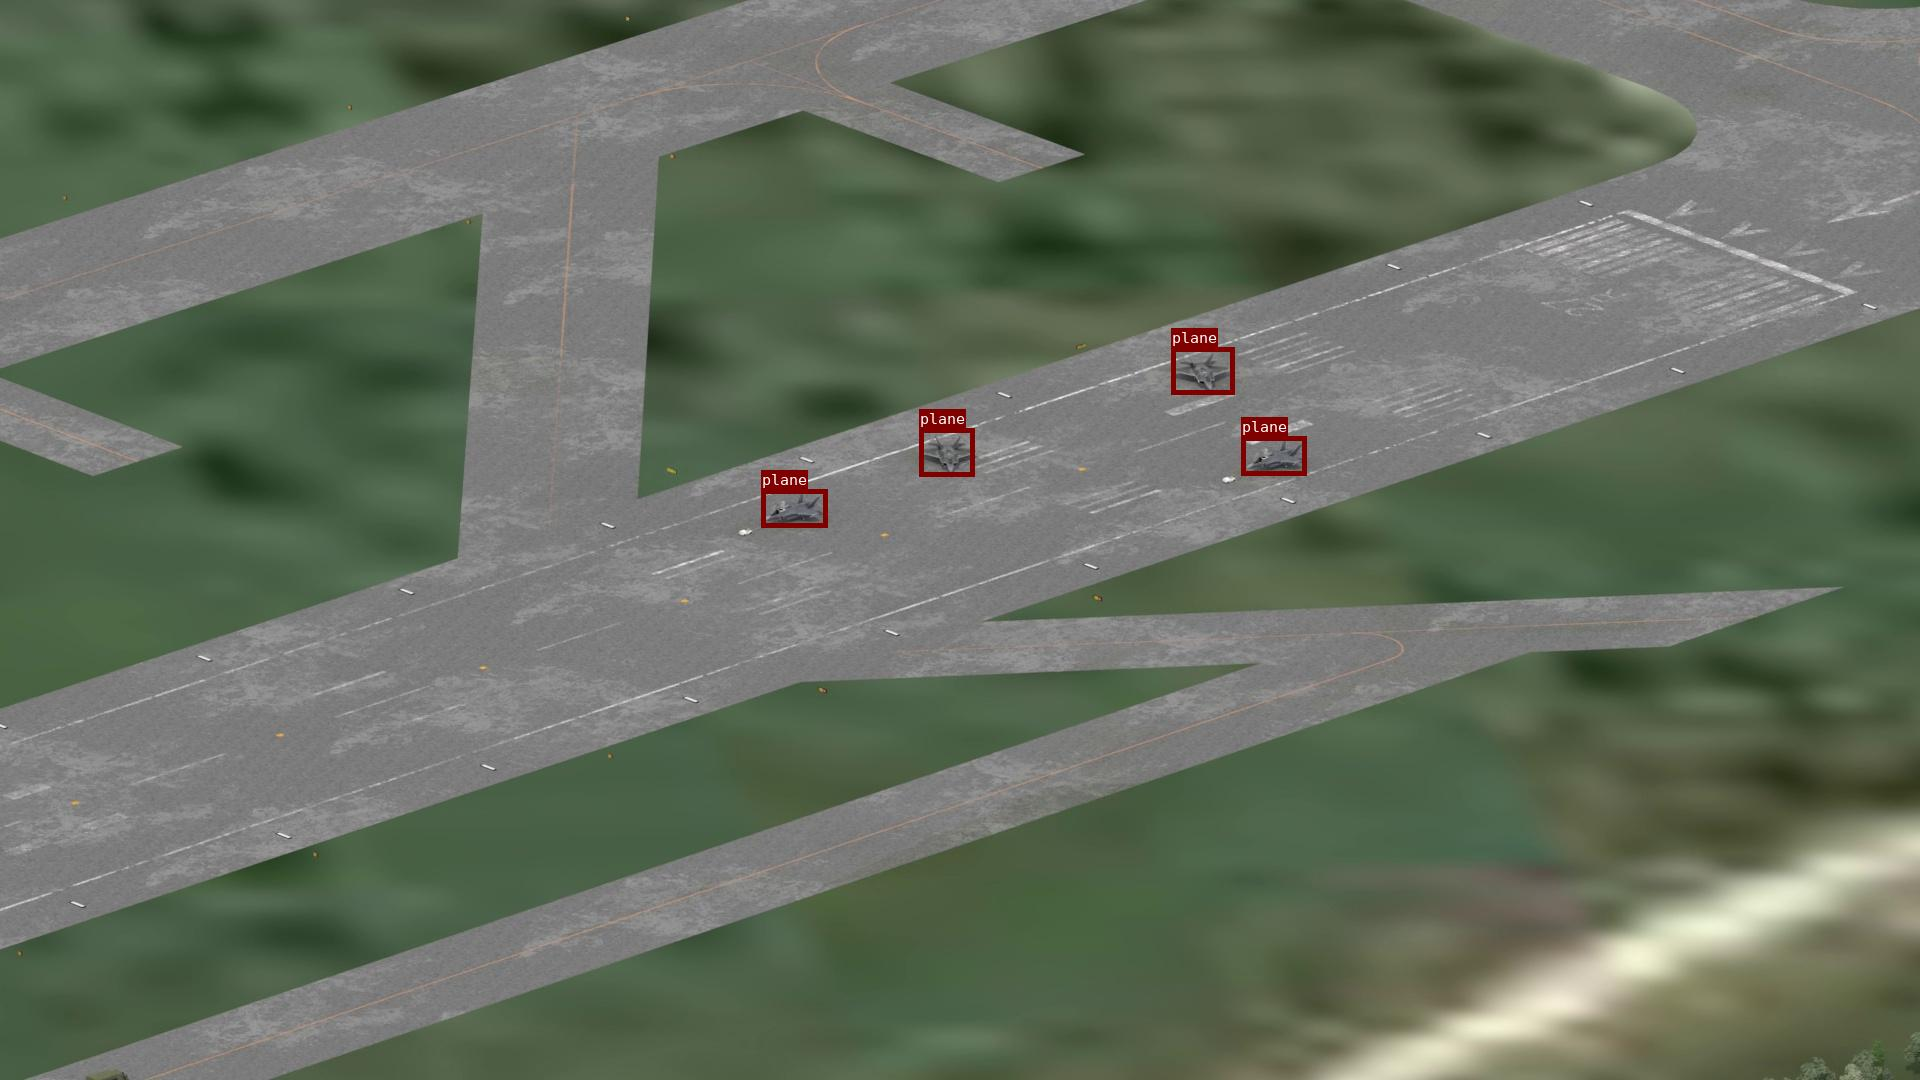plane: (1171, 347, 1234, 394), (919, 429, 975, 476), (761, 489, 827, 527), (1241, 436, 1305, 475)
